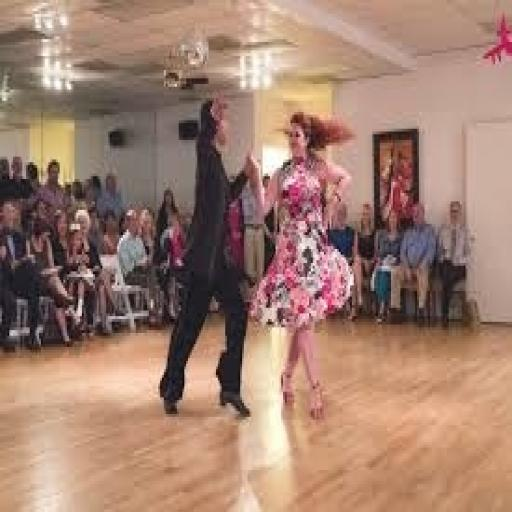dancing: (156, 92, 264, 422), (250, 109, 358, 423)
